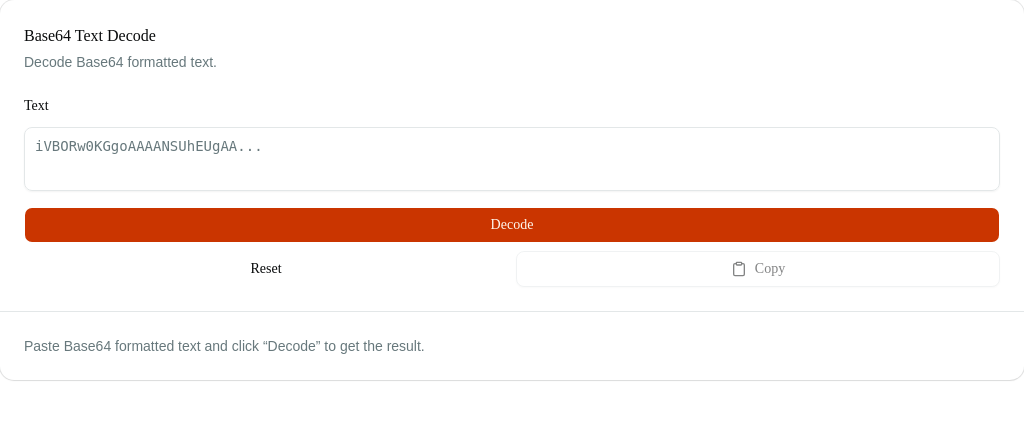
Base64TextDecode › validation › shows error when submitting empty input
Expected: the form is shown, [24, 96, 1000, 287]
Click the button "Decode" at point(512, 225), box [24, 207, 1000, 243]
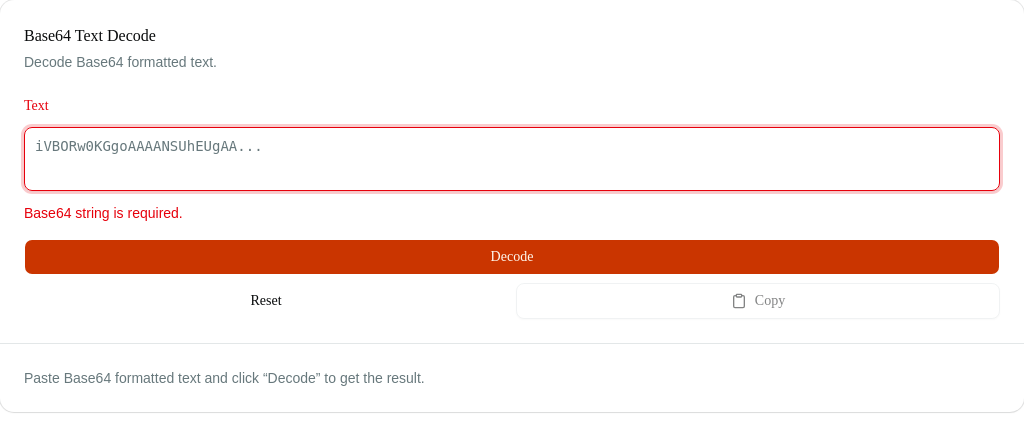
Result: the message "Base64 string is required." is shown at [24, 205, 183, 221]
